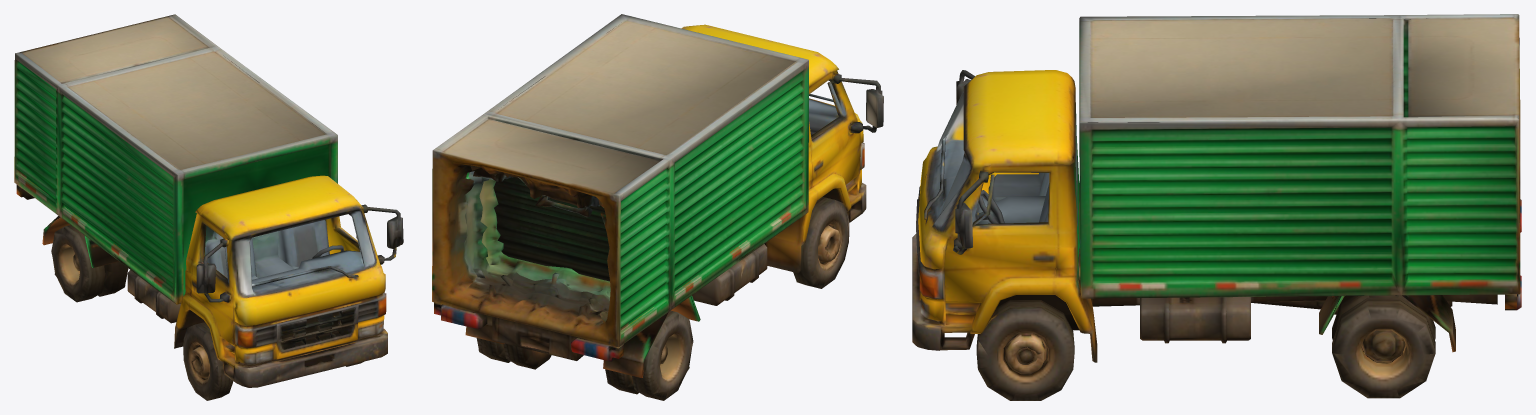
File: truck.glb
The picture shows the model from 3 angles, left to right: view 1: azimuth 30°, elevation 25°; view 2: azimuth 150°, elevation 25°; view 3: azimuth 270°, elevation 25°; orthographic projection. The views are drawn at different scales.
Parts seen in each view (by area): view 1: tripo_node_6ad7e885-525f-4939-babb-ada31f72dda2; view 2: tripo_node_6ad7e885-525f-4939-babb-ada31f72dda2; view 3: tripo_node_6ad7e885-525f-4939-babb-ada31f72dda2.
Boxes of the visible parts, x1=… form: tripo_node_6ad7e885-525f-4939-babb-ada31f72dda2: x1=14, y1=14, x2=403, y2=400; tripo_node_6ad7e885-525f-4939-babb-ada31f72dda2: x1=432, y1=14, x2=883, y2=400; tripo_node_6ad7e885-525f-4939-babb-ada31f72dda2: x1=912, y1=14, x2=1521, y2=400.
Bounding box in the file's own units: 0.5157 × 0.5042 × 0.9796.
1 material, 1 textured.
